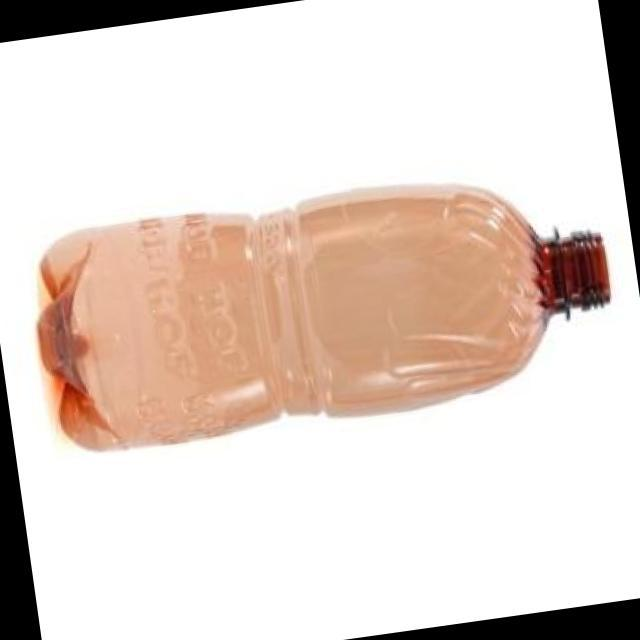good: (14, 116, 640, 484)
